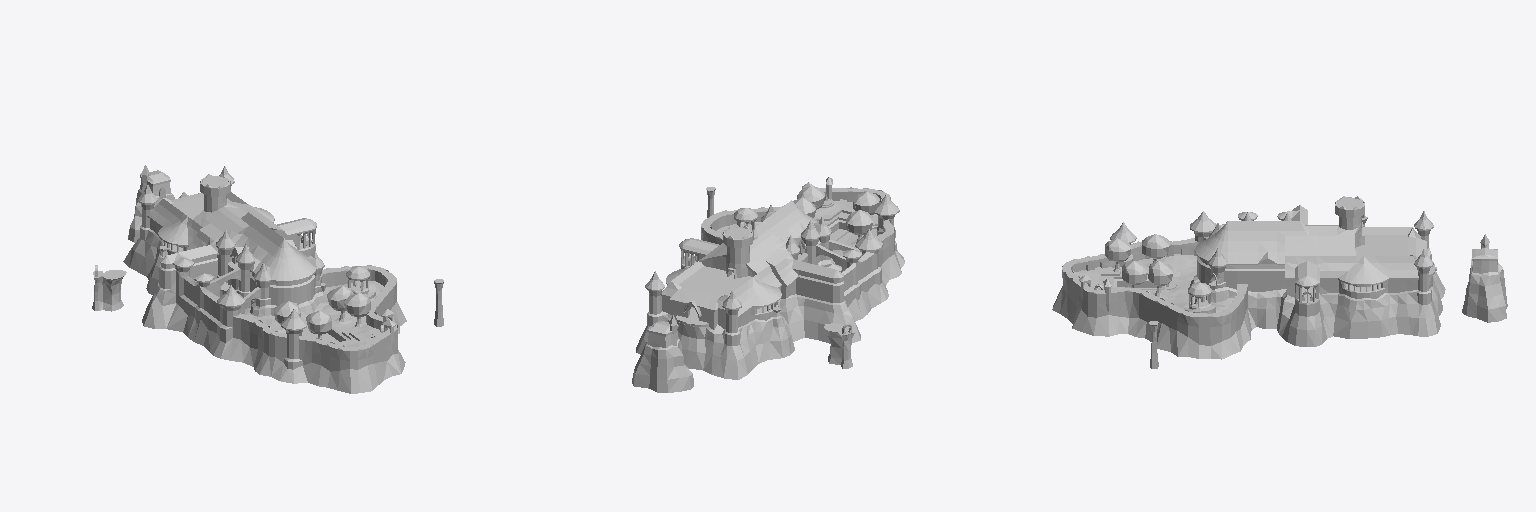
File: Autumn.obj
3 renders of one model, left to right at view 1: azimuth 30°, elevation 25°; view 2: azimuth 150°, elevation 25°; view 3: azimuth 270°, elevation 25°, orthographic.
Visible parts, largest first — view 1: Autumn; view 2: Autumn; view 3: Autumn.
Part boxes in pixels (left/top/right/bottom): Autumn: left=92, top=165, right=443, bottom=393; Autumn: left=632, top=177, right=904, bottom=392; Autumn: left=1052, top=196, right=1507, bottom=368.
Size of the model in its own units: 753 by 302 by 1190.